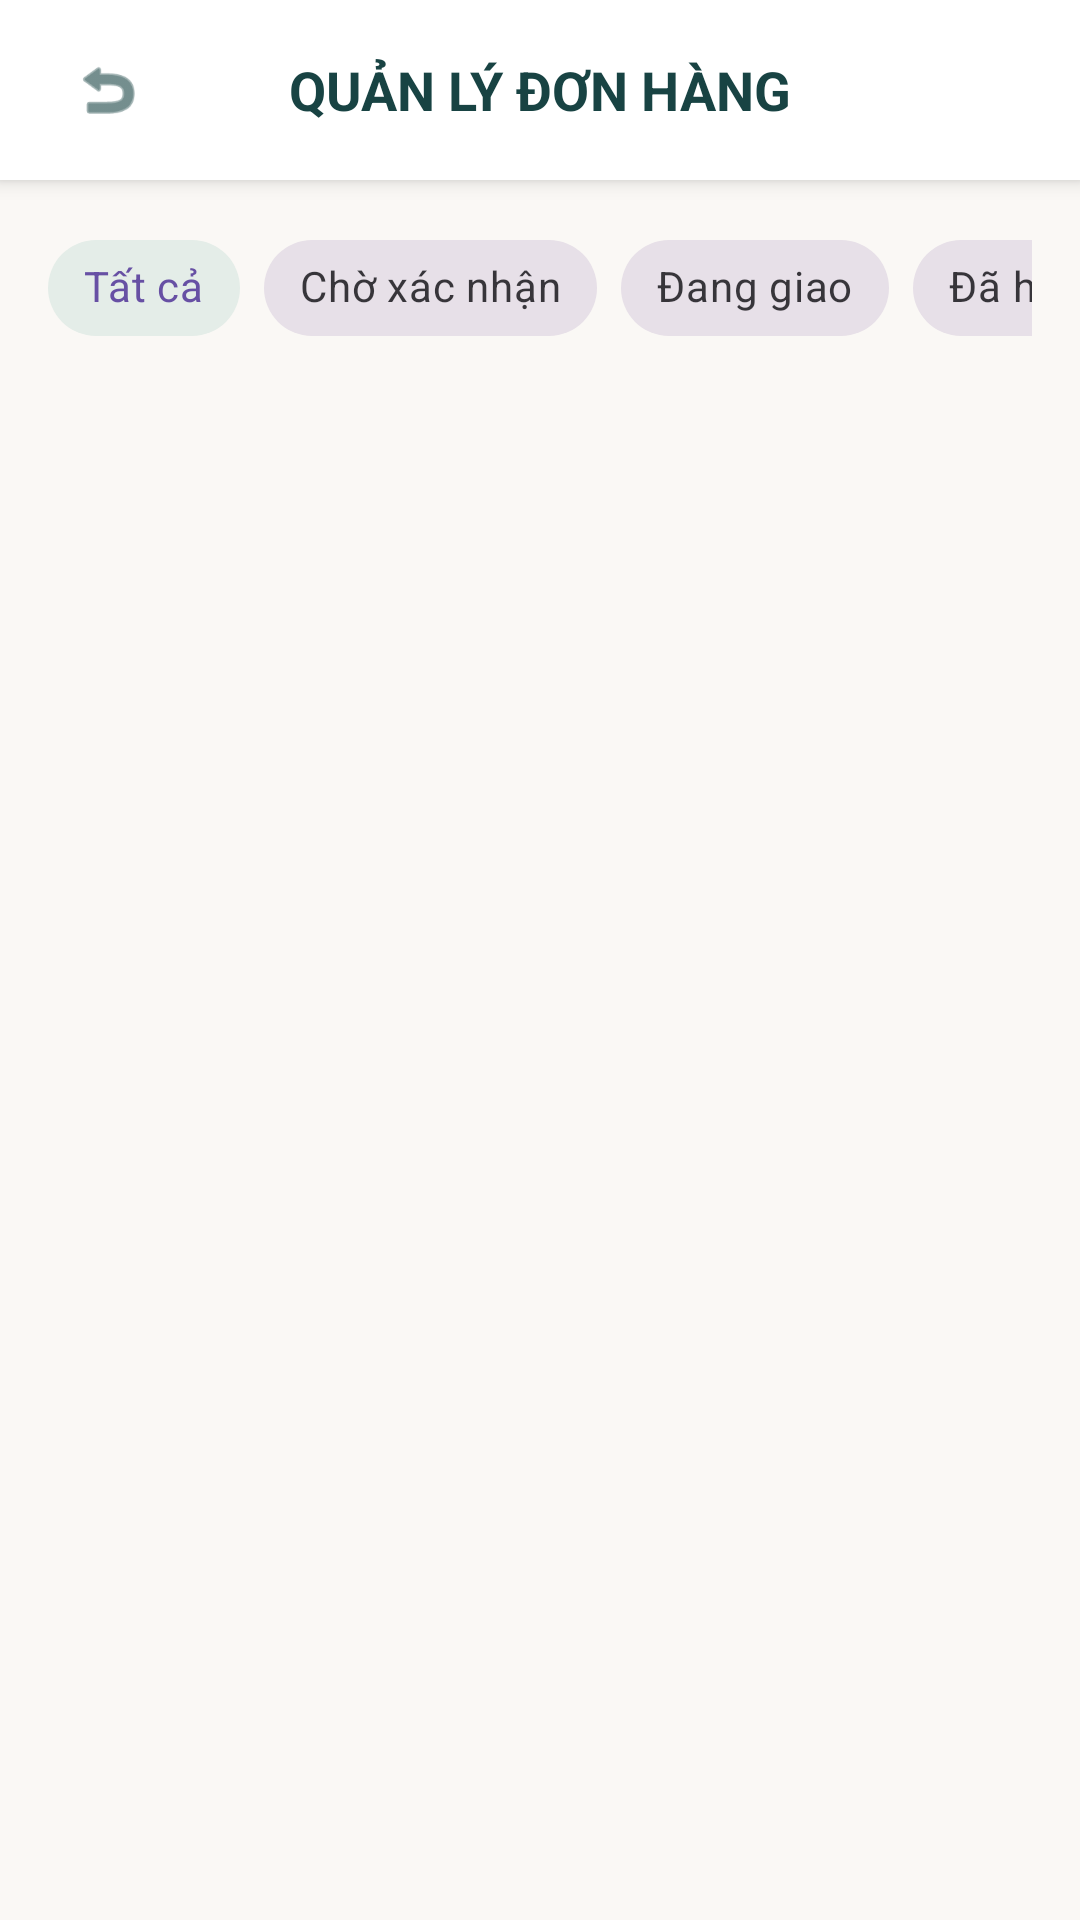

Screen size 1080 × 1920. Icon name, then its box in pixels as BBox(x1, y1, x2, y2):
revert: BBox(83, 67, 135, 114)
